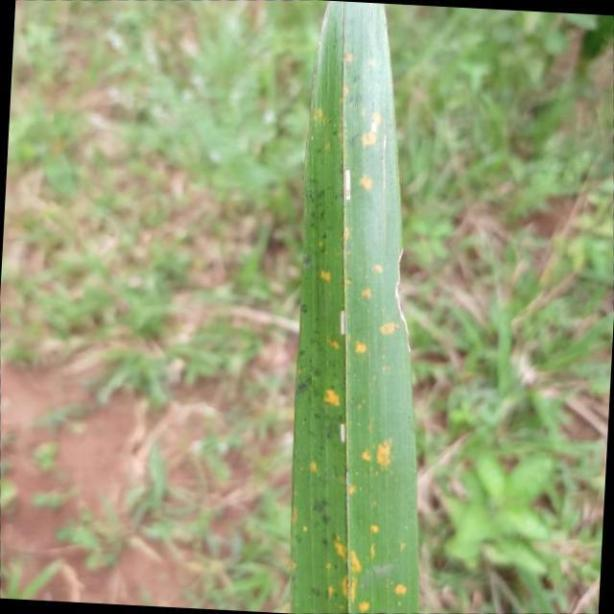Kalium: (286, 0, 422, 614)
